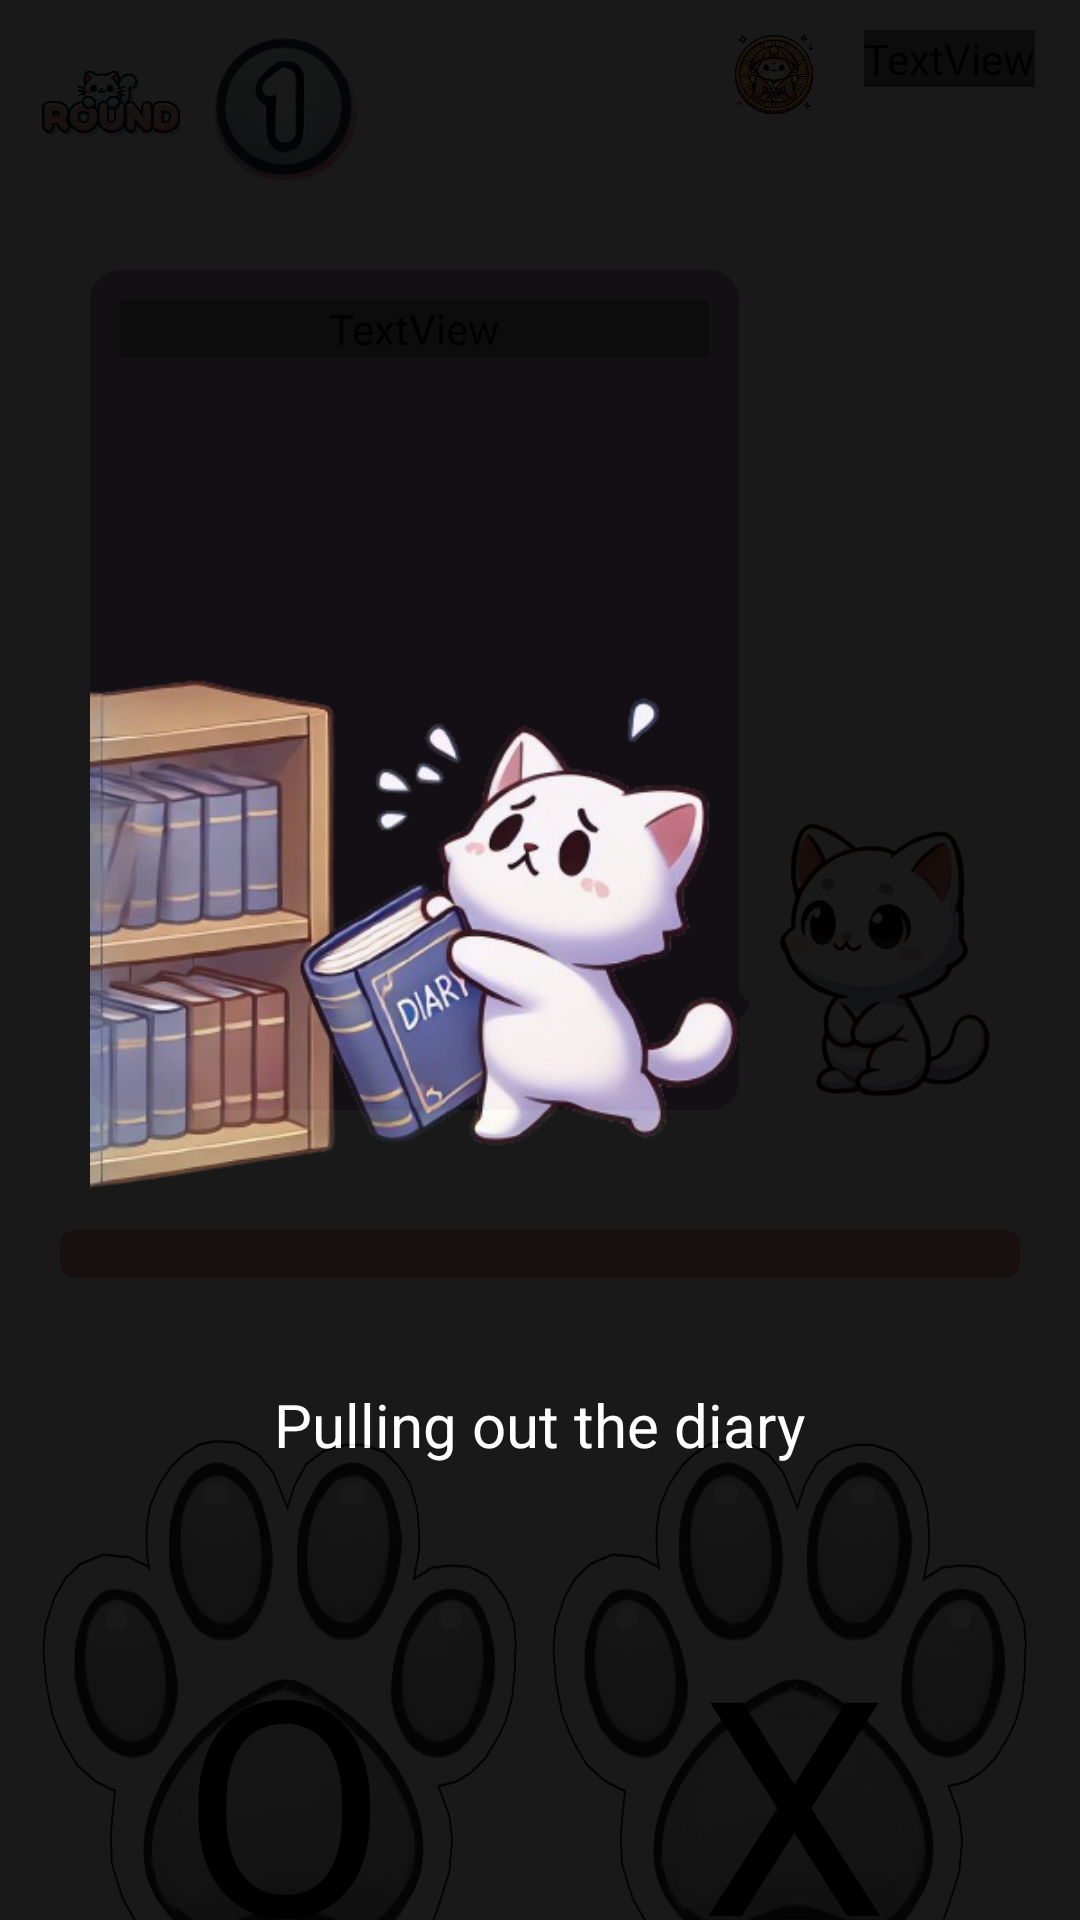

Named icons in this screenshot (1080w x 1920h) and their centers, [x,y]:
coin: [774,74]
number: [284,105]
sitting cat: [884,960]
